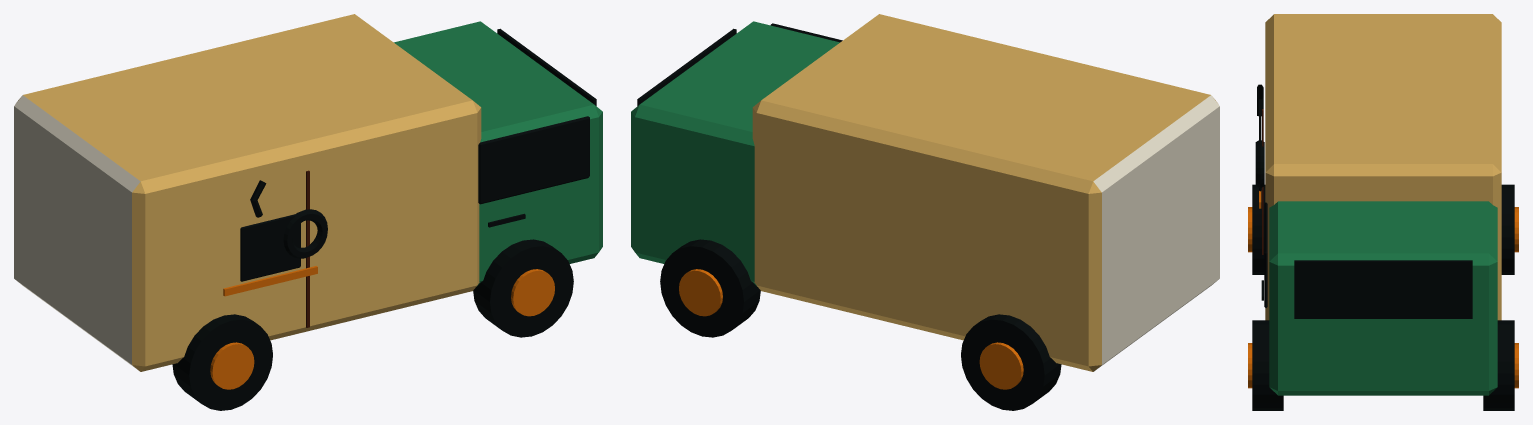
The model's file is mall_r5_density_van.fbx.
3 views of the same model, side by side, from view 1: azimuth 30°, elevation 25°; view 2: azimuth 150°, elevation 25°; view 3: azimuth 270°, elevation 25° (orthographic). The views are drawn at different scales.
Visible parts, largest first — view 1: Part_-1, Part_4, Part_1, Part_0, Part_5, Part_6, Part_7; view 2: Part_-1, Part_4, Part_3, Part_2, Part_5, Part_6, Part_7; view 3: Part_4, Part_-1, Part_6, Part_7, Part_0, Part_3, Part_1.
Part boxes in pixels (<box>): Part_-1: <box>16,14,480,371</box>; Part_4: <box>394,21,602,325</box>; Part_1: <box>146,105,592,369</box>; Part_0: <box>145,170,476,366</box>; Part_5: <box>14,95,140,371</box>; Part_6: <box>141,288,466,410</box>; Part_7: <box>473,239,598,337</box>; Part_-1: <box>753,14,1217,371</box>; Part_4: <box>631,21,842,330</box>; Part_3: <box>636,108,1087,366</box>; Part_2: <box>757,113,1088,365</box>; Part_5: <box>1093,95,1219,371</box>; Part_6: <box>771,293,1092,410</box>; Part_7: <box>635,242,760,337</box>; Part_4: <box>1248,176,1518,395</box>; Part_-1: <box>1265,14,1501,176</box>; Part_6: <box>1248,184,1518,274</box>; Part_7: <box>1252,327,1514,410</box>; Part_0: <box>1252,84,1265,254</box>; Part_3: <box>1490,172,1512,322</box>; Part_1: <box>1255,172,1277,324</box>.
Size of the model in its own units: 5.65 by 2.71 by 3.01.
